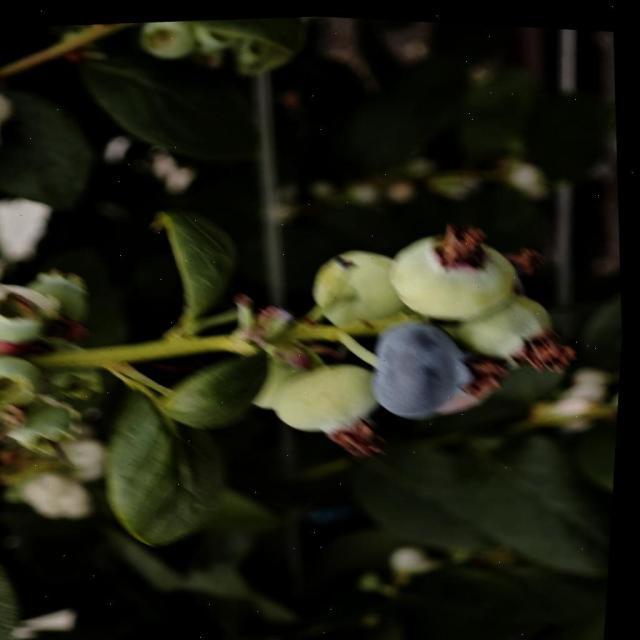RipeBlueBerry: (368, 310, 480, 421)
UnripeBlueBerry: (384, 216, 526, 325), (272, 351, 388, 438)
